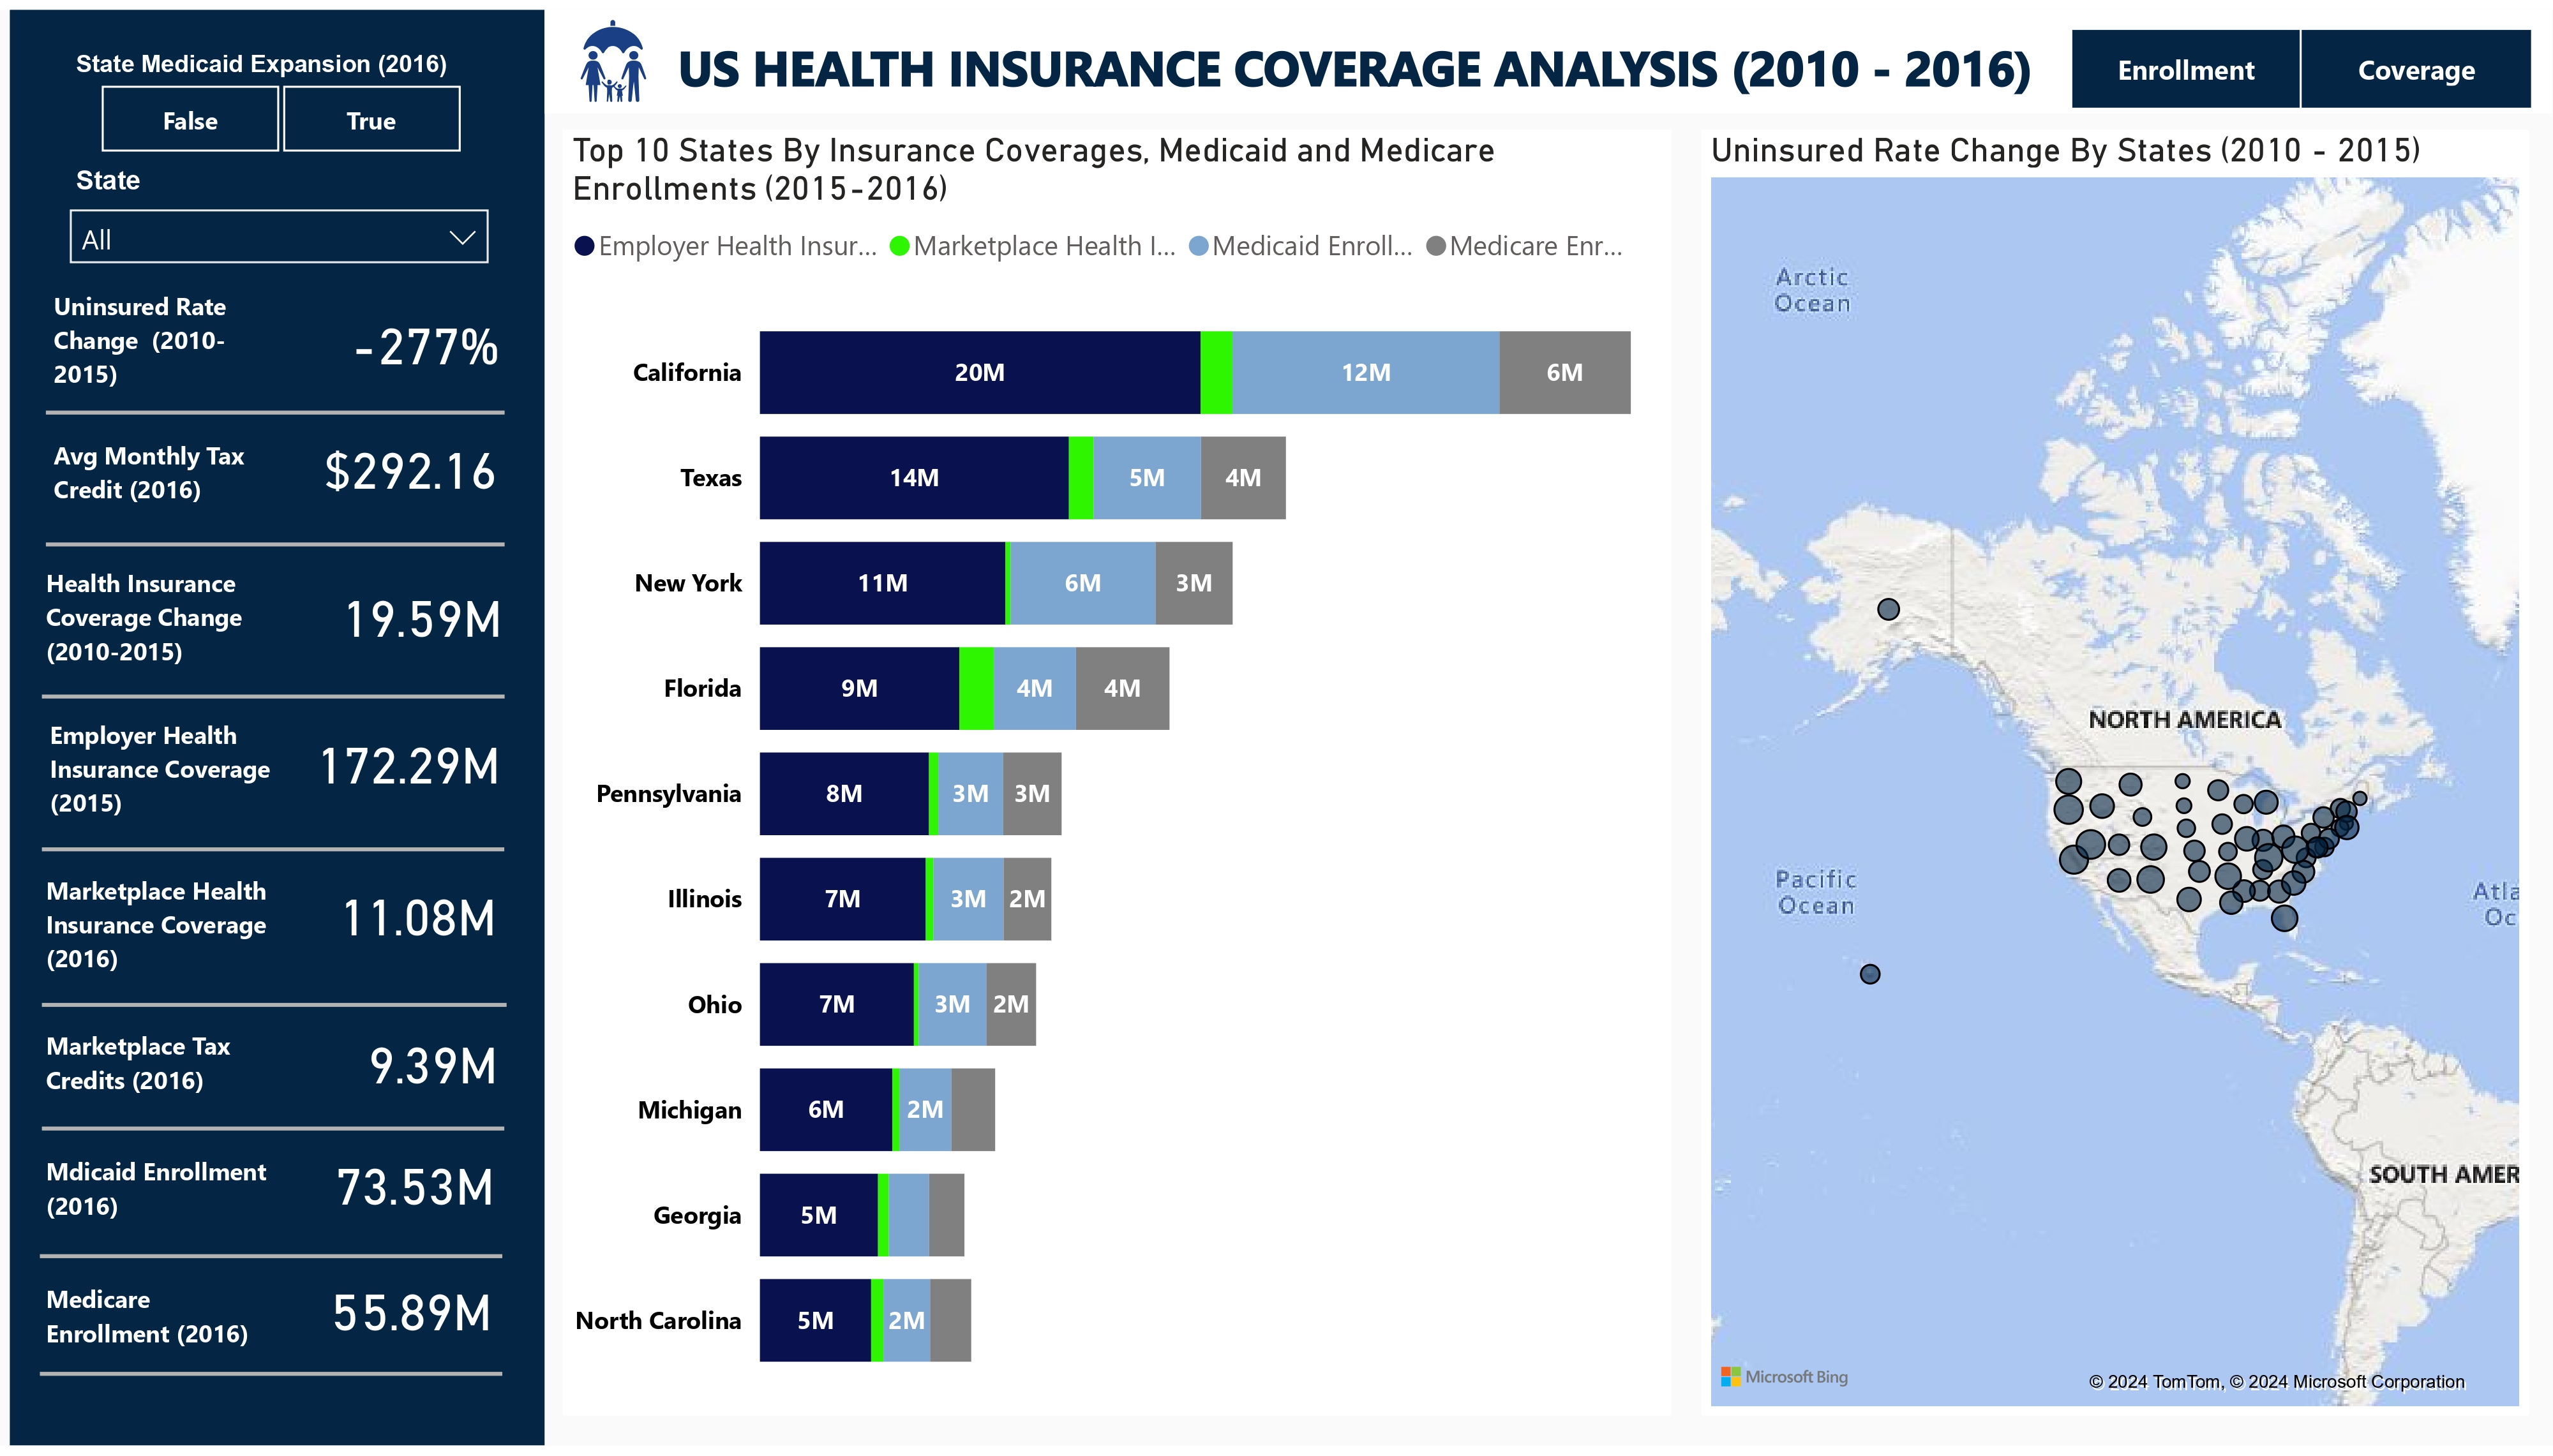

This screenshot's page, from the dashboard's own definition file:
{"tool":"powerbi","page":{"name":"REPORT 1","canvas":[1280,720],"ordinal":0},"visuals":[{"type":"shape","box":[5,0,268.4,719.7],"z":0},{"type":"card","fields":{"Values":["DAX.Avg Average Monthly Tax Credit (2016)"]},"box":[137.5,191.3,137.5,78],"z":1000},{"type":"card","fields":{"Values":["DAX.Formatted Health Insurance Coverage Change (2010-2015)"]},"box":[141.7,263.6,138.9,80.8],"z":2000},{"type":"card","fields":{"Values":["DAX.FORMATTED Employee Health Insurance Coverage (2015)"]},"box":[127.6,338.7,153.1,78],"z":3000},{"type":"card","fields":{"Values":["DAX.Formatted Marketplace Health Insurance Coverage (2016)"]},"box":[140.3,415.3,138.9,78],"z":4000},{"type":"shape","box":[23.3,249.6,230.4,36],"z":5000},{"type":"card","fields":{"Values":["DAX.Formatted Marketplace Tax Credit (2016)"]},"box":[146,487.6,141.7,80.8],"z":6000},{"type":"shape","box":[21.3,323.1,232.4,42.5],"z":7000},{"type":"shape","box":[21.3,399.9,231.8,41.8],"z":8000},{"type":"shape","box":[23.3,181.5,230.4,41.8],"z":9000},{"type":"shape","box":[21.3,477.6,233.3,41.8],"z":10000},{"type":"card","fields":{"Values":["DAX.Formatted Uninsured Rate Change (2010-2016)"]},"box":[144.6,127.6,136.1,79.4],"z":11000},{"type":"card","fields":{"Values":["DAX.Medicaid Enrollment (2016)"]},"box":[137.5,549.9,141.6,78.4],"z":12000},{"type":"textbox","box":[21.8,209.3,109.4,66.2],"z":13000},{"type":"textbox","box":[18.4,273.1,125.3,79.2],"z":14000},{"type":"textbox","box":[19.8,349.5,125.3,79.2],"z":15000},{"type":"textbox","box":[18.4,426.6,124.7,79.4],"z":16000},{"type":"textbox","box":[21.8,134,109.4,63.4],"z":17000},{"type":"textbox","box":[18.4,504.6,124.7,73.7],"z":18000},{"type":"shape","box":[21.3,540.3,231.8,41.8],"z":19000},{"type":"textbox","box":[18.4,568.4,125.3,60.5],"z":20000},{"type":"shape","box":[19.9,604.4,231.8,41.8],"z":21000},{"type":"card","fields":{"Values":["DAX.Medicare Enrollment (2016)"]},"box":[134.7,613.2,141.6,78.4],"z":22000},{"type":"textbox","box":[18.4,632.1,124.7,59.5],"z":23000},{"type":"shape","box":[19.9,663.3,231.8,41.8],"z":24000},{"type":"barChart","title":"Top 10 States With Most Declined Uninsured Rate Change (2010-2016)","fields":{"Category":["states.State"],"Y":["Sum(states.Uninsured Rate Change (2010-2015))"]},"box":[280.5,62.2,307,312],"z":25000},{"type":"donutChart","title":"States Medicaid Expansion (2016) Enrollment Status","fields":{"Series":["states.State Medicaid Expansion (2016)"],"Y":["CountNonNull(states.State Medicaid Expansion (2016))"]},"box":[599.7,62.2,312.4,312],"z":26000},{"type":"barChart","title":"Top 10 States With The Most Significant Medicaid Enrollment Change (2013-2016)","fields":{"Category":["states.State"],"Y":["Sum(states.Medicaid Enrollment Change (2013-2016))"]},"box":[923.9,62.2,344.4,312],"z":27000},{"type":"barChart","title":"Top 10 States By Health Insurance Coverage Change (2010-2015)","fields":{"Category":["states.State"],"Y":["Sum(states.Health Insurance Coverage Change (2010-2015))"]},"box":[280.5,386.4,307.4,322.5],"z":28000},{"type":"slicer","fields":{"Values":["states.State"]},"box":[24.7,72.9,229.6,64.6],"z":29000},{"type":"slicer","fields":{"Values":["states.State Medicaid Expansion (2016)"]},"box":[24.7,15.1,229.6,63.2],"z":30000},{"type":"shape","box":[273.4,0,1006.6,52],"z":31000},{"type":"textbox","box":[334.5,7.3,837.8,50.9],"z":32000},{"type":"image","box":[273.5,0,69.8,50.9],"z":33000},{"type":"barChart","title":"Top 10 States By Avg Monthly Tax Credit (2016)","fields":{"Category":["states.State"],"Y":["Sum(states.Average Monthly Tax Credit (2016))"]},"box":[599.7,389.7,312.4,317.5],"z":34000},{"type":"actionButton","box":[1153.7,7.1,114.8,39.7],"z":35000},{"type":"barChart","title":"Top 10 States By Marketplace Tax Credits (2016)","fields":{"Category":["states.State"],"Y":["Sum(states.Marketplace Tax Credits (2016))"]},"box":[923.9,389.7,344.4,319.2],"z":36000}]}

Visuals, with their boxes in screenshot pixels (x1, y1, x2, y2), scaled from the page's 1280x720 canvas onto the 2553x1456 screenshot:
shape: <box>10,0,545,1455</box>
card - DAX.Avg Average Monthly Tax Credit (2016): <box>274,387,548,545</box>
card - DAX.Formatted Health Insurance Coverage Change (2010-2015): <box>283,533,560,697</box>
card - DAX.FORMATTED Employee Health Insurance Coverage (2015): <box>255,685,560,843</box>
card - DAX.Formatted Marketplace Health Insurance Coverage (2016): <box>280,840,557,997</box>
shape: <box>47,505,506,577</box>
card - DAX.Formatted Marketplace Tax Credit (2016): <box>291,986,574,1150</box>
shape: <box>43,653,506,739</box>
shape: <box>43,808,505,893</box>
shape: <box>47,367,506,452</box>
shape: <box>43,966,508,1050</box>
card - DAX.Formatted Uninsured Rate Change (2010-2016): <box>288,258,560,419</box>
card - DAX.Medicaid Enrollment (2016): <box>274,1112,557,1270</box>
textbox: <box>43,423,262,557</box>
textbox: <box>36,553,287,713</box>
textbox: <box>40,707,289,867</box>
textbox: <box>36,863,285,1023</box>
textbox: <box>43,271,262,399</box>
textbox: <box>36,1020,285,1170</box>
shape: <box>43,1092,505,1177</box>
textbox: <box>36,1150,287,1272</box>
shape: <box>40,1222,502,1307</box>
card - DAX.Medicare Enrollment (2016): <box>269,1240,551,1399</box>
textbox: <box>36,1278,285,1399</box>
shape: <box>40,1341,502,1426</box>
"Top 10 States With Most Declined Uninsured Rate Change (2010-2016)" barChart: <box>560,126,1172,757</box>
"States Medicaid Expansion (2016) Enrollment Status" donutChart: <box>1196,126,1819,757</box>
"Top 10 States With The Most Significant Medicaid Enrollment Change (2013-2016)" barChart: <box>1843,126,2529,757</box>
"Top 10 States By Health Insurance Coverage Change (2010-2015)" barChart: <box>560,782,1172,1434</box>
slicer - states.State: <box>49,147,507,278</box>
slicer - states.State Medicaid Expansion (2016): <box>49,31,507,158</box>
shape: <box>545,0,2552,105</box>
textbox: <box>667,15,2338,117</box>
image: <box>546,0,685,103</box>
"Top 10 States By Avg Monthly Tax Credit (2016)" barChart: <box>1196,788,1819,1430</box>
actionButton: <box>2301,15,2530,94</box>
"Top 10 States By Marketplace Tax Credits (2016)" barChart: <box>1843,788,2529,1434</box>
